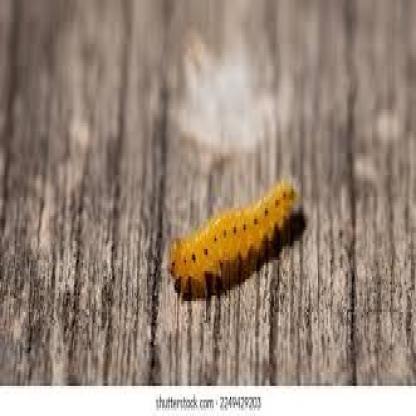sawfly: (167, 174, 302, 290)
